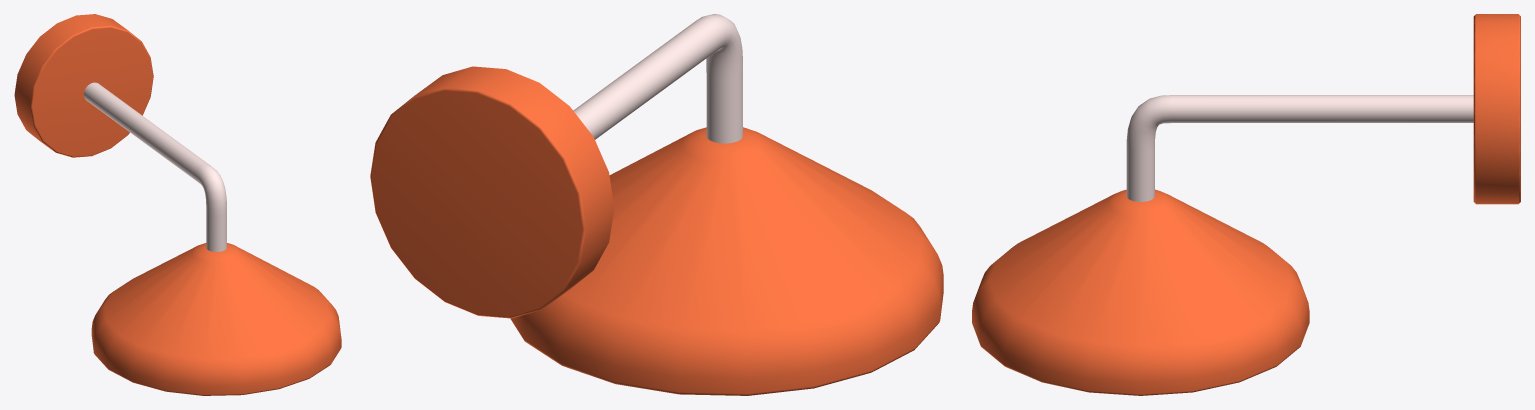
File: Town_12_Wall_Lamp_1.glb
3 views of the same model, side by side, from view 1: azimuth 30°, elevation 25°; view 2: azimuth 150°, elevation 25°; view 3: azimuth 270°, elevation 25° (orthographic). The views are drawn at different scales.
Parts seen in each view (by area): view 1: Town_12_Wall_Lamp_1; view 2: Town_12_Wall_Lamp_1; view 3: Town_12_Wall_Lamp_1.
Part boxes in pixels (x1,y1,x2,y2): Town_12_Wall_Lamp_1: (14,14,341,395); Town_12_Wall_Lamp_1: (370,14,943,395); Town_12_Wall_Lamp_1: (972,14,1520,395).
Bounding box in the file's own units: 0.5155 × 0.5116 × 0.8382.
Materials: 1 (1 with a texture image).
